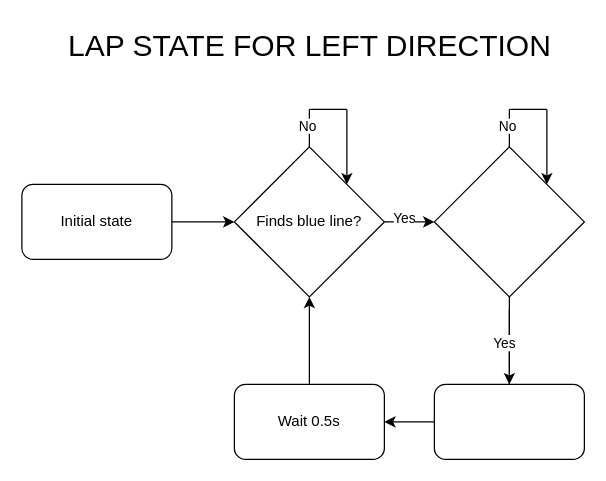
Image size: 606x481. Some labels were removed from this diagram. The shapes that lost their labels are listed below. From the top down, each one's centre as x and y in pixels, then its label:
point 508,221: Finds orange line?
point 508,421: Increment quarter lap count
